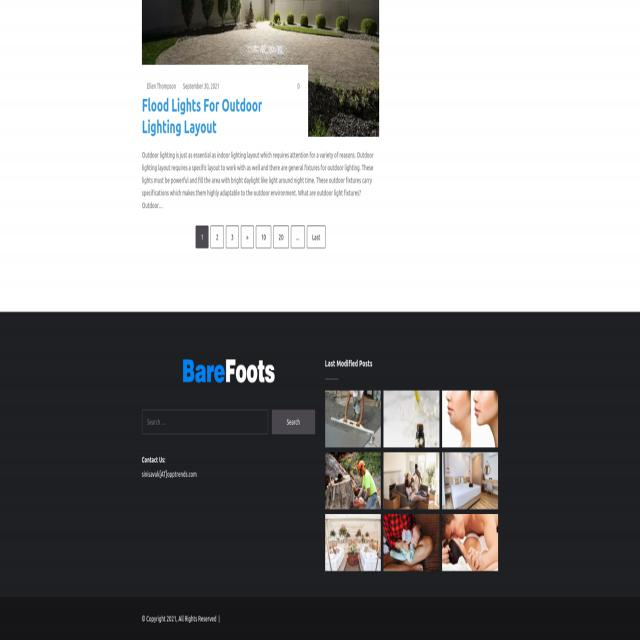button: (142, 0, 379, 140), (325, 391, 381, 448), (442, 391, 498, 448), (325, 452, 381, 509), (442, 452, 498, 509), (325, 514, 381, 571), (442, 514, 498, 571), (384, 391, 439, 448), (384, 452, 439, 509), (384, 514, 439, 571), (182, 358, 275, 387), (271, 410, 315, 434), (306, 226, 326, 248), (256, 226, 272, 248), (273, 226, 289, 248), (291, 226, 305, 248), (196, 225, 208, 249), (210, 226, 223, 248), (241, 226, 254, 248), (226, 226, 238, 248)
field: (142, 410, 268, 434)
